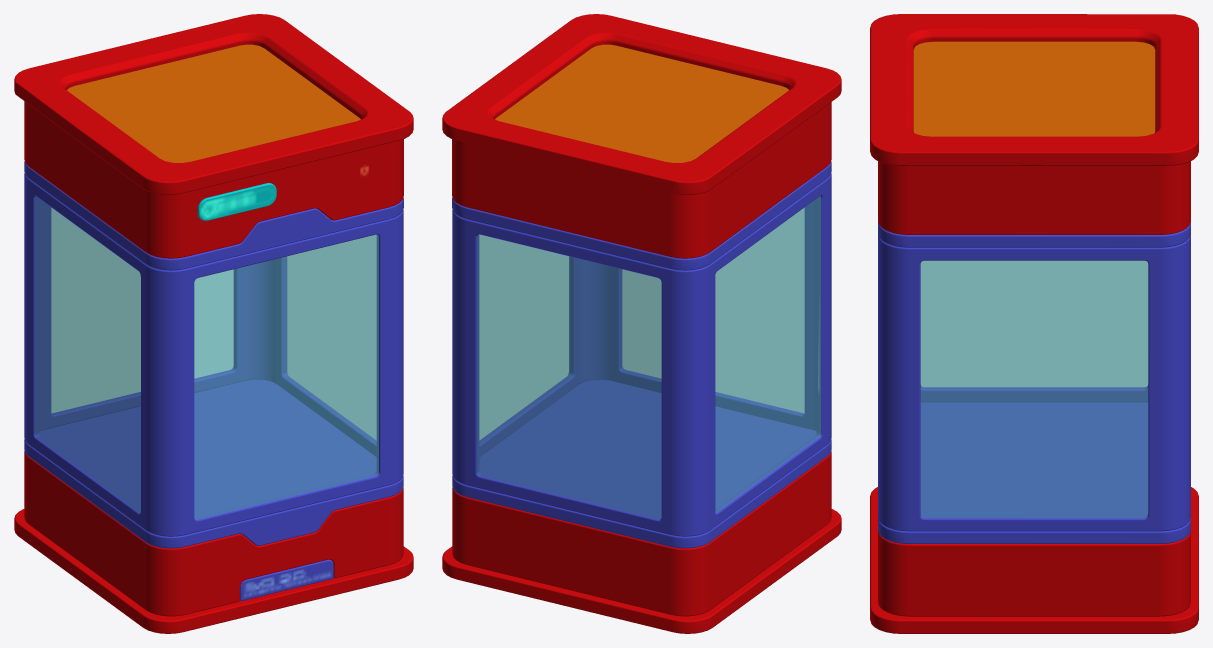
Rendered from FINAL INCUBATOR.fbx.
The picture shows the model from 3 angles, left to right: view 1: azimuth 30°, elevation 25°; view 2: azimuth 150°, elevation 25°; view 3: azimuth 270°, elevation 25°; orthographic projection. The views are drawn at different scales.
Parts seen in each view (by area): view 1: polySurface5, polySurface1; view 2: polySurface5, polySurface1; view 3: polySurface5, polySurface1.
Part boxes in pixels (x1,y1,x2,y2): polySurface5: (14, 14, 413, 633); polySurface1: (34, 196, 378, 519); polySurface5: (442, 14, 841, 633); polySurface1: (477, 196, 821, 519); polySurface5: (870, 14, 1198, 633); polySurface1: (920, 260, 1148, 518).
Bounding box in the file's own units: 210 × 340 × 210.
